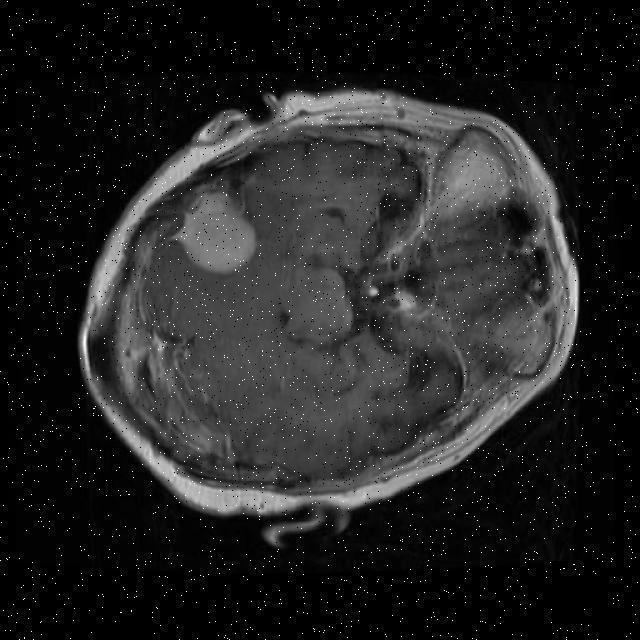Meningioma: (176, 193, 255, 273)
